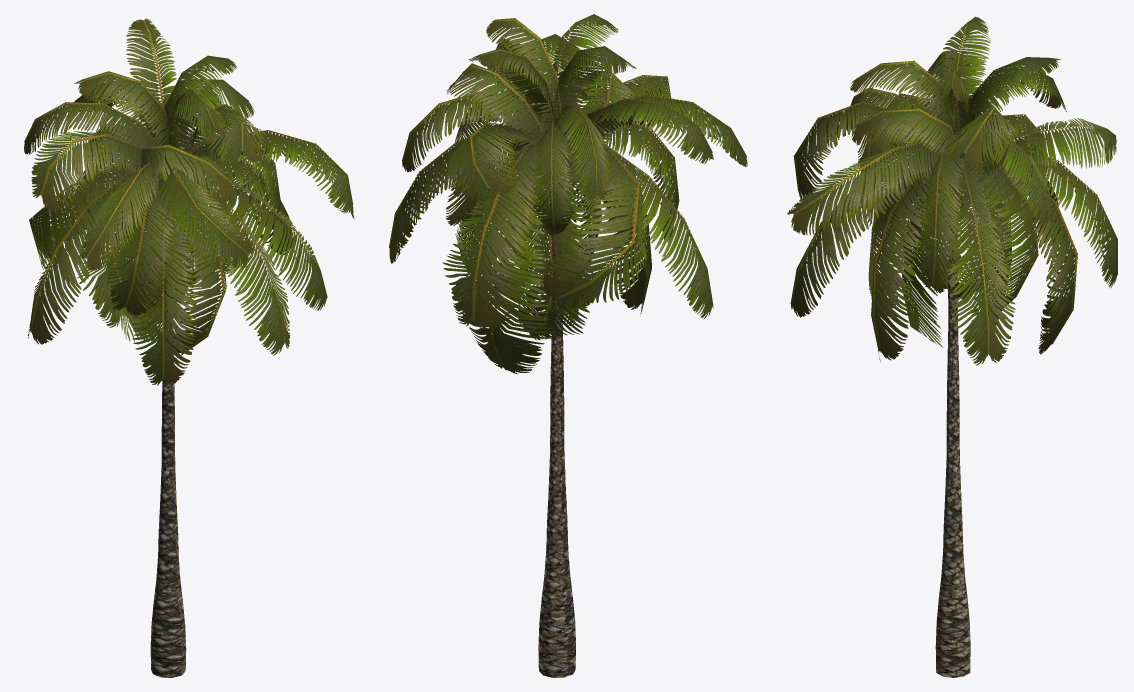
File: flora-trees-palm-tropical.glb
The picture shows the model from 3 angles, left to right: view 1: azimuth 30°, elevation 25°; view 2: azimuth 150°, elevation 25°; view 3: azimuth 270°, elevation 25°; orthographic projection. The views are drawn at different scales.
Visible parts, largest first — view 1: palm_straight; view 2: palm_straight; view 3: palm_straight.
Part boxes in pixels (x1=…): palm_straight: x1=24, y1=18, x2=354, y2=677; palm_straight: x1=389, y1=14, x2=747, y2=677; palm_straight: x1=787, y1=16, x2=1117, y2=677.
Bounding box in the file's own units: 4.95 × 9.99 × 4.88.
Materials: 1 (1 with a texture image).
